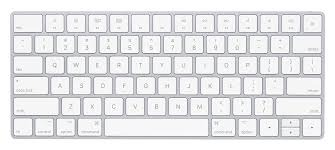keyboard: (4, 2, 329, 141)
